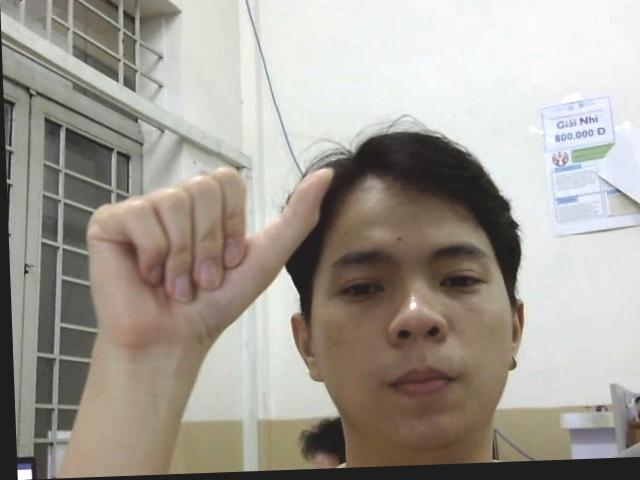A: (73, 165, 337, 340)
